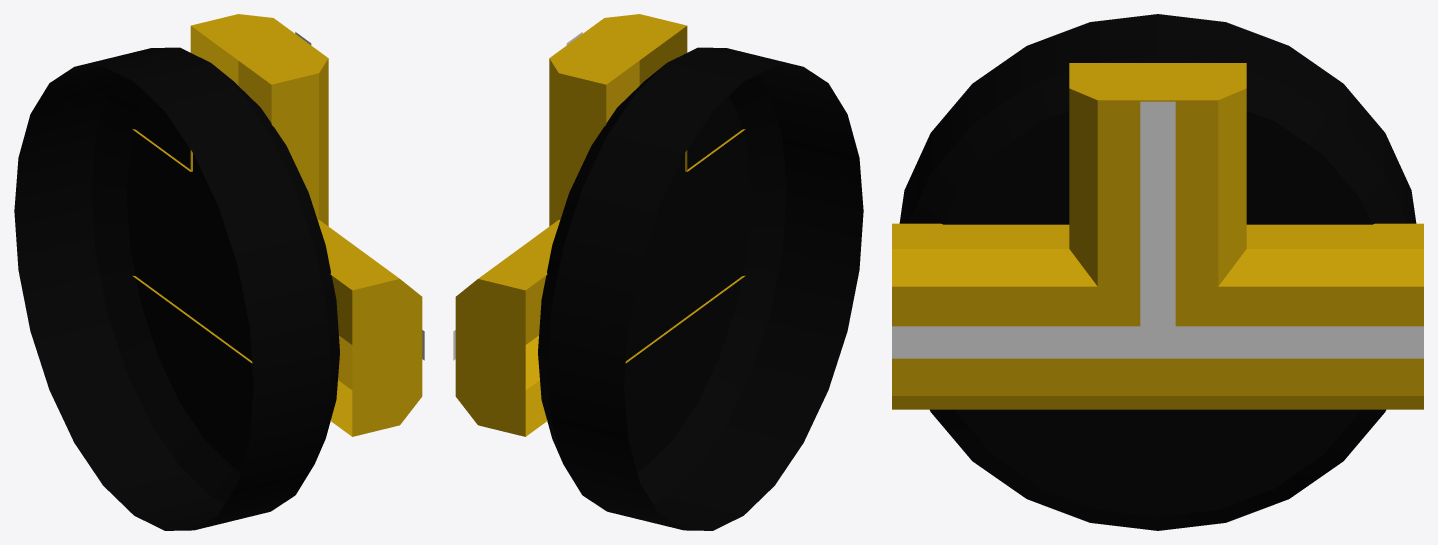
The model's file is EL_Panel_Switch_T.fbx.
The picture shows the model from 3 angles, left to right: view 1: azimuth 30°, elevation 25°; view 2: azimuth 150°, elevation 25°; view 3: azimuth 270°, elevation 25°; orthographic projection. The views are drawn at different scales.
Parts seen in each view (by area): view 1: Electrical_Panel_Switch_T.003, Electrical_Panel_Switch_T.005; view 2: Electrical_Panel_Switch_T.003, Electrical_Panel_Switch_T.005; view 3: Electrical_Panel_Switch_T.005, Electrical_Panel_Switch_T.003.
Boxes of the visible parts, box(x1,y1,x2,y2) form: Electrical_Panel_Switch_T.003: box(14, 47, 339, 530); Electrical_Panel_Switch_T.005: box(132, 14, 424, 436); Electrical_Panel_Switch_T.003: box(538, 47, 863, 530); Electrical_Panel_Switch_T.005: box(453, 14, 745, 436); Electrical_Panel_Switch_T.005: box(892, 63, 1423, 409); Electrical_Panel_Switch_T.003: box(899, 14, 1416, 530).
Bounding box in the file's own units: 6.04 × 14.91 × 15.
